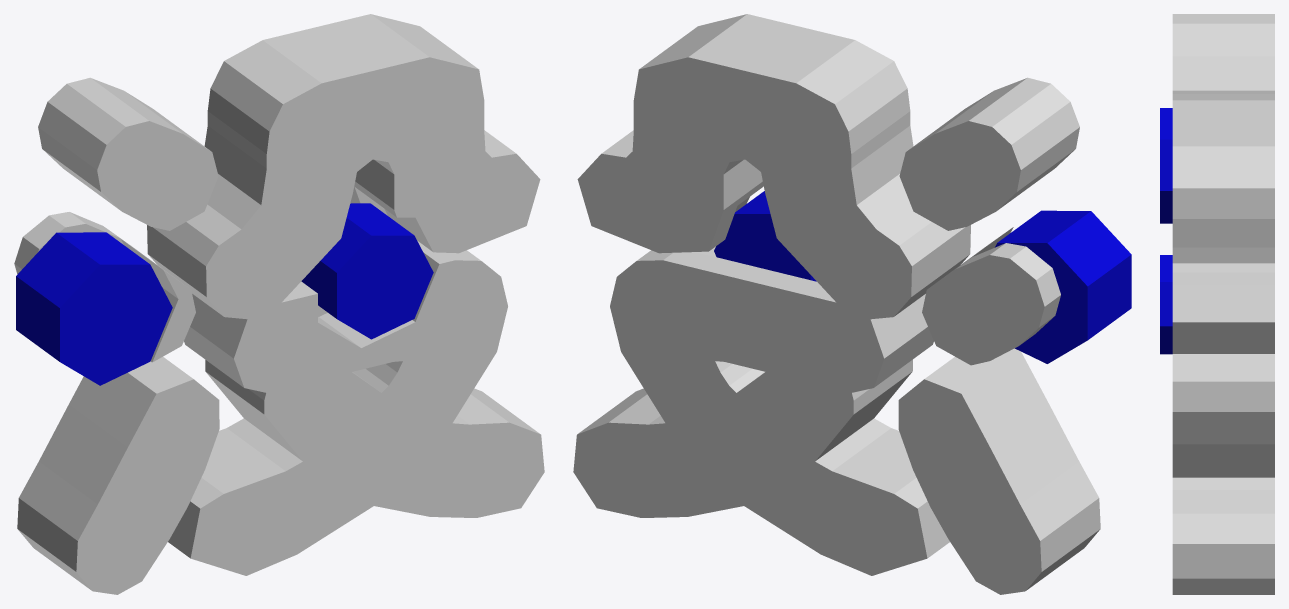
File: Ch_Lite_China_没_01.fbx
3 views of the same model, side by side, from view 1: azimuth 30°, elevation 25°; view 2: azimuth 150°, elevation 25°; view 3: azimuth 270°, elevation 25° (orthographic). The views are drawn at different scales.
Visible parts, largest first — view 1: sphere1; view 2: sphere1; view 3: sphere1.
Part boxes in pixels (bbox=[...]): sphere1: bbox=[14, 14, 544, 594]; sphere1: bbox=[573, 14, 1131, 594]; sphere1: bbox=[1160, 14, 1274, 594].
Size of the model in its own units: 0.9613 by 0.894 by 0.2242.
